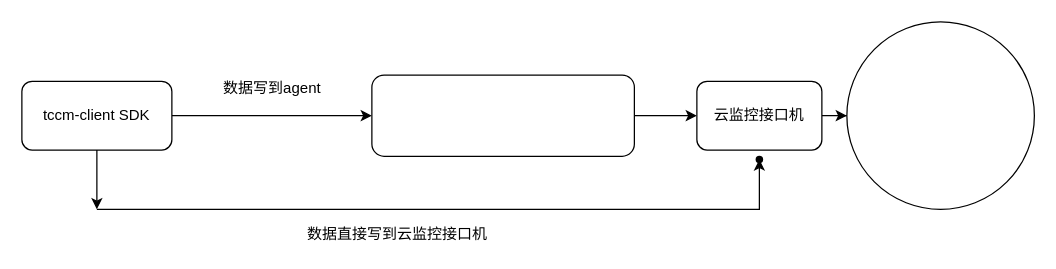
The diagram is 1056 pixels wide and 269 high, and some of its shapes have lost their labels. The box of each missing label's shape, as (x1, y1, x2, y2) in pixels:
tencentcloud_cloudmonitor_agent: (371, 74, 634, 156)
云监控后端: (846, 21, 1034, 209)
